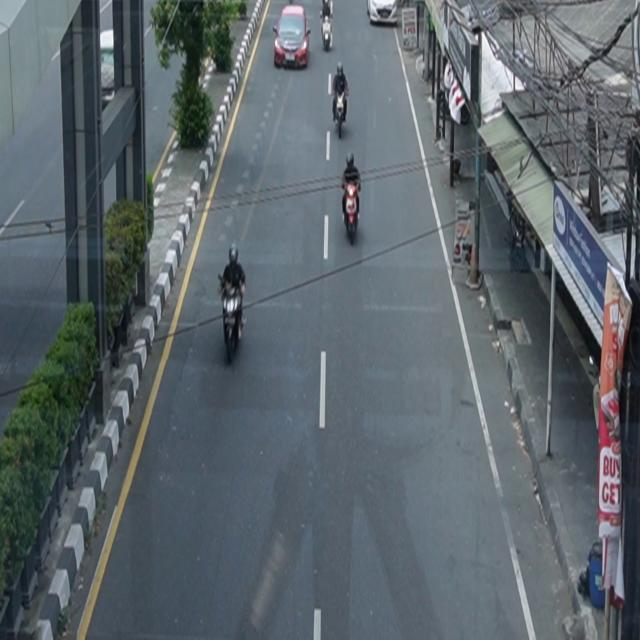car: (273, 5, 312, 70), (367, 1, 398, 26)
